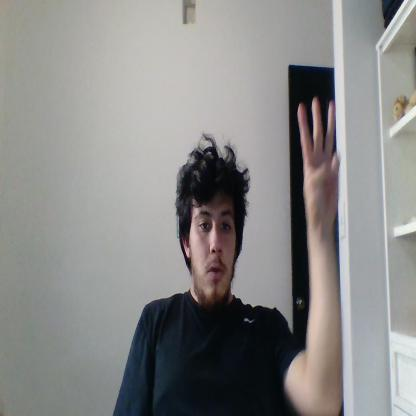W: (298, 98, 341, 224)
